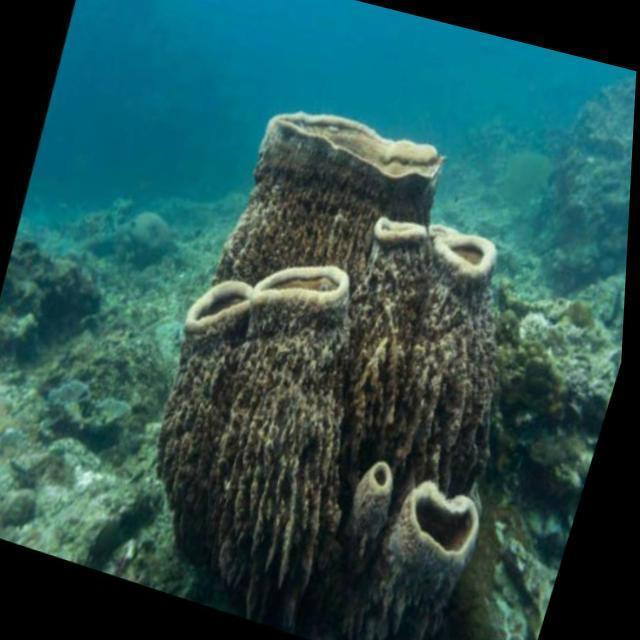Dead Coral: (96, 61, 627, 640)
